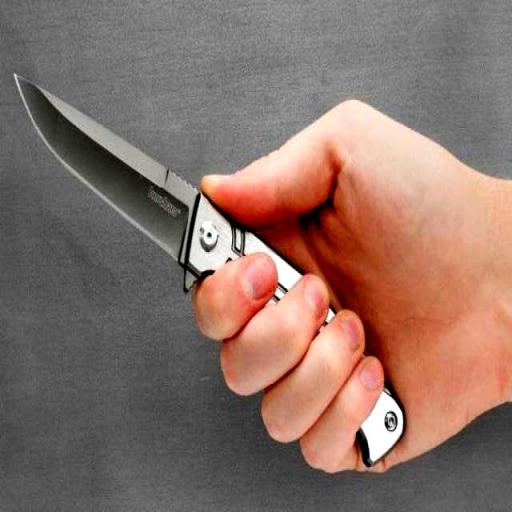knife: (7, 66, 415, 475)
